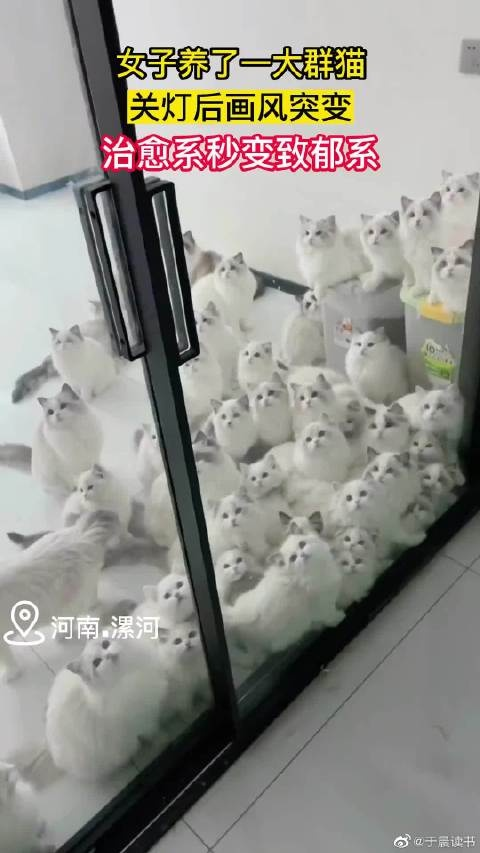cat: (1, 510, 120, 682), (43, 626, 164, 779), (223, 523, 347, 655), (1, 384, 107, 497), (239, 453, 340, 537), (333, 473, 426, 556), (294, 214, 371, 300), (63, 465, 137, 554), (157, 613, 215, 724), (389, 384, 469, 464), (267, 414, 355, 480), (189, 253, 257, 332), (48, 324, 117, 401), (345, 326, 412, 404), (399, 192, 446, 295), (208, 487, 270, 563), (1, 760, 50, 853), (288, 373, 364, 432), (191, 394, 253, 464), (362, 448, 422, 517), (359, 209, 408, 292), (278, 289, 329, 367), (431, 239, 480, 320), (192, 301, 242, 377), (175, 343, 224, 418), (142, 561, 199, 625), (246, 371, 295, 444), (441, 169, 480, 250), (331, 545, 375, 609), (235, 336, 285, 390), (132, 420, 169, 491), (179, 231, 225, 288), (212, 541, 252, 602), (364, 403, 411, 454), (333, 526, 381, 562), (406, 428, 448, 469), (418, 461, 457, 498)
